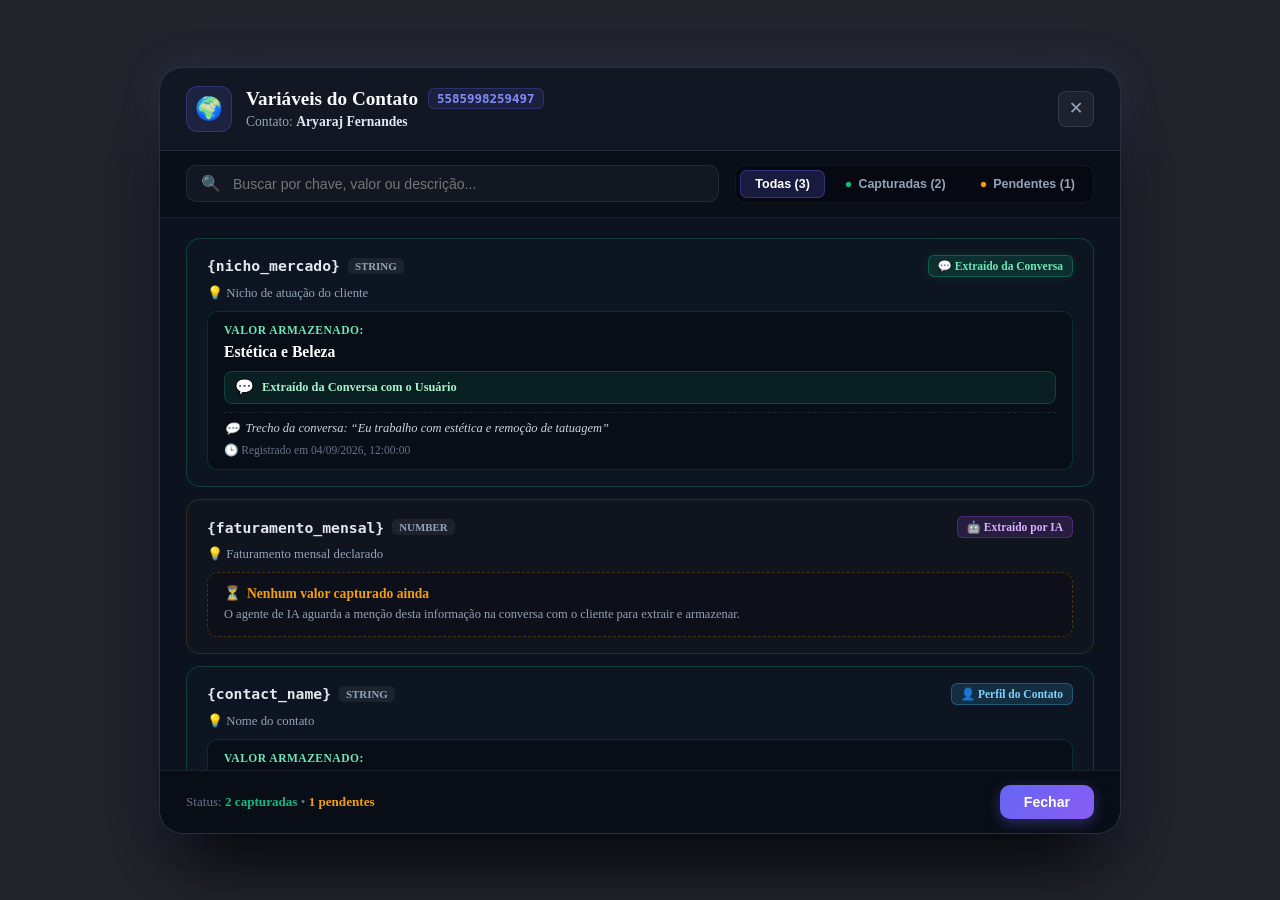
Scenario: LeadVariablesModal Component › deve filtrar as variáveis ao clicar nas abas Capturadas e Pendentes
Expected: the text "{nicho_mercado}" is shown, [207, 257, 340, 274]
# Clicar na aba Pendentes
Click the button "● Pendentes (1)". click: [1027, 184]
box: [966, 170, 1089, 196]
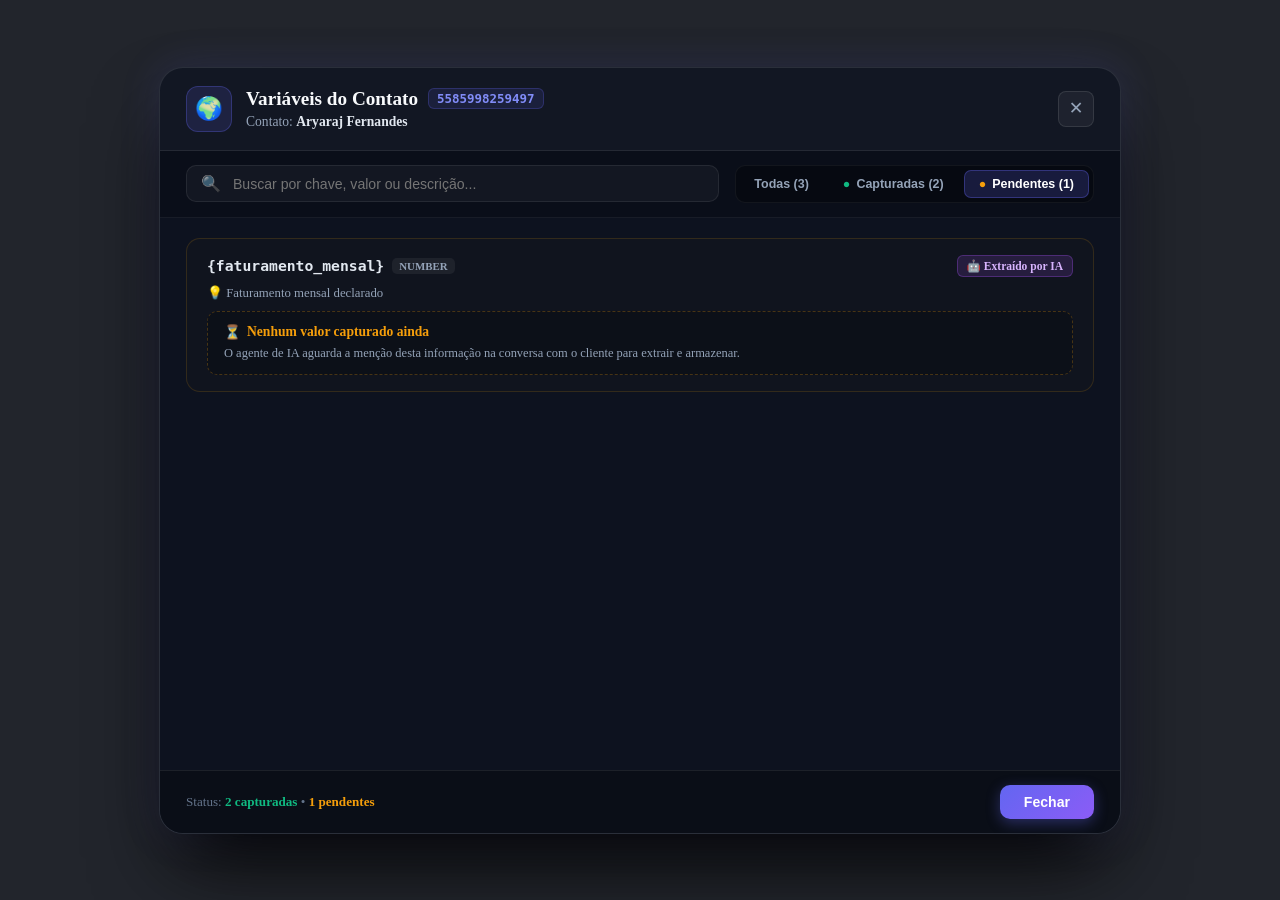
Expected: the text "{faturamento_mensal}" is shown, [207, 257, 384, 274]
Expected: the text "{nicho_mercado}" is gone
# Clicar na aba Capturadas
Click the button "● Capturadas (2)". click: [893, 184]
box: [829, 170, 958, 196]
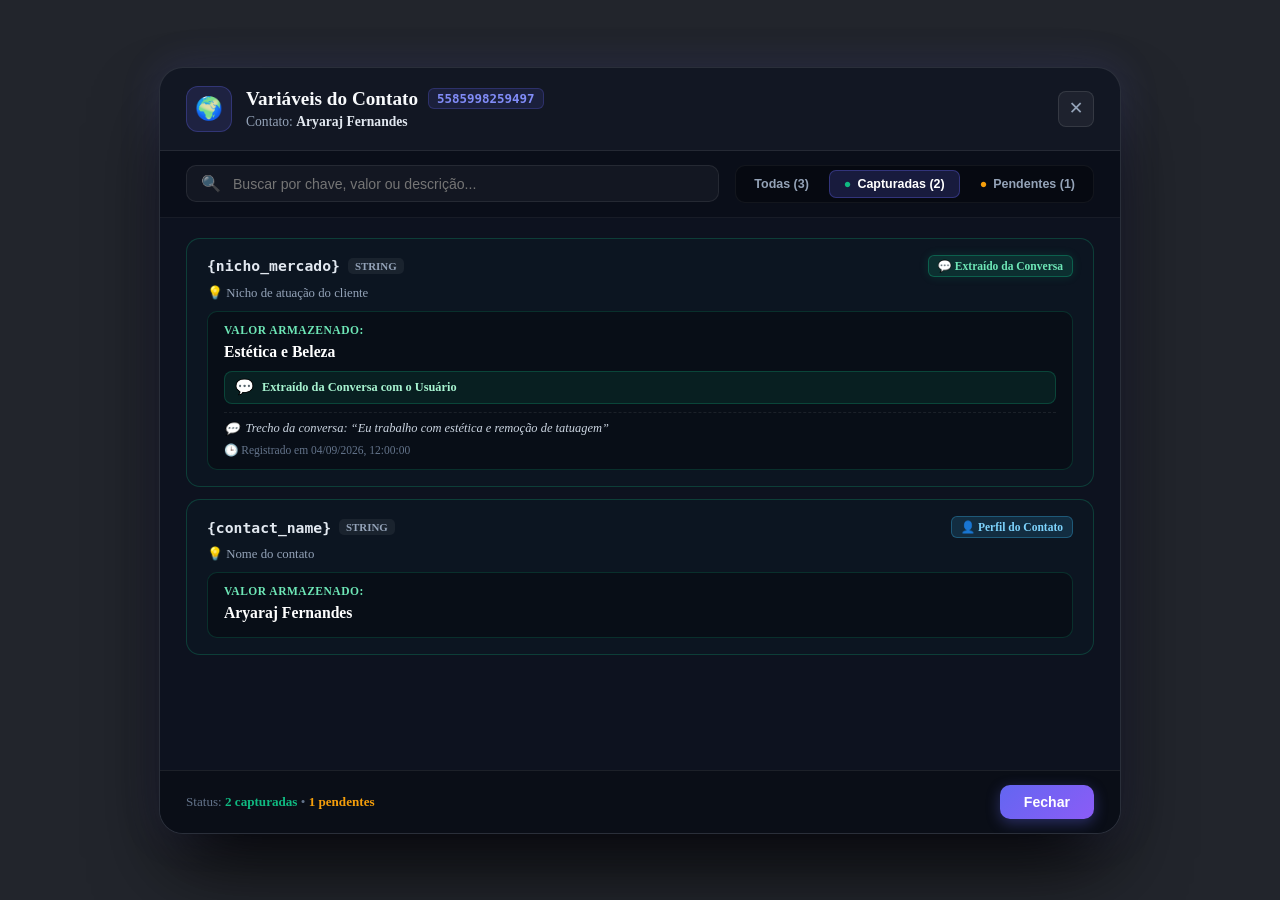
Expected: the text "{nicho_mercado}" is shown, [207, 257, 340, 274]
Expected: the text "{contact_name}" is shown, [207, 519, 331, 536]
Expected: the text "{faturamento_mensal}" is gone
